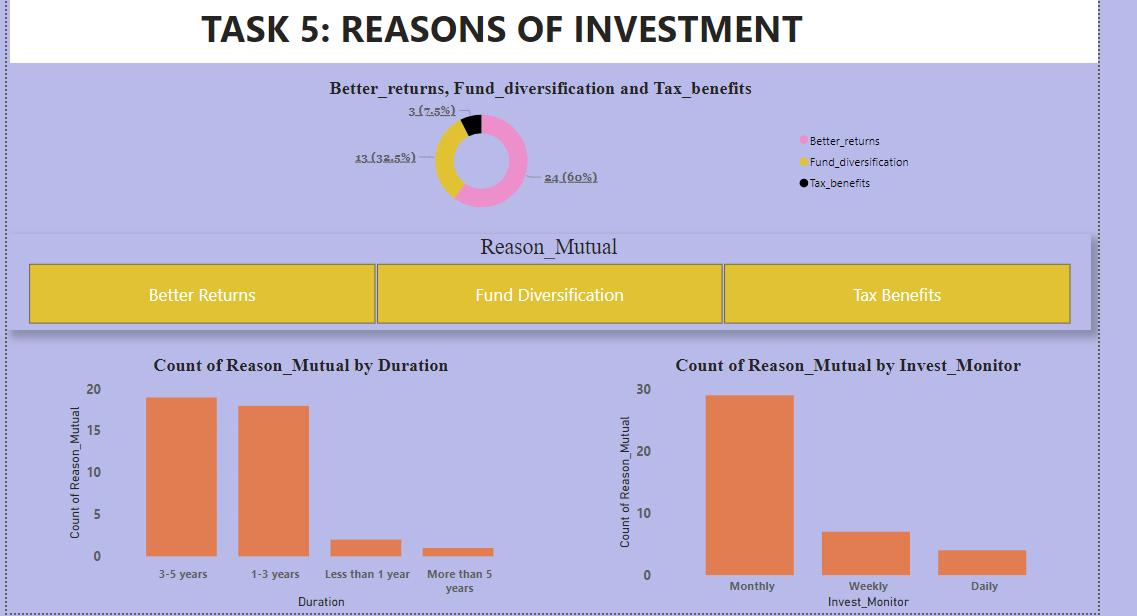

This screenshot's page, from the dashboard's own definition file:
{"tool":"powerbi","page":{"name":"Task 5","canvas":[1280,720],"ordinal":4},"visuals":[{"type":"textbox","box":[4.1,0,1276.2,74.5],"z":0},{"type":"columnChart","fields":{"Category":["Data_set 2.Duration"],"Y":["CountNonNull(Data_set 2.Reason_Mutual)"]},"box":[66.4,417.3,555.5,302.1],"z":1000},{"type":"columnChart","fields":{"Y":["CountNonNull(Data_set 2.Reason_Mutual)"],"Category":["Data_set 2.Invest_Monitor"]},"box":[711.3,417.3,548.7,302.1],"z":2000},{"type":"slicer","title":"Reason_Mutual","fields":{"Values":["Data_set 2.Reason_Mutual"]},"box":[0,275,1270.8,112.4],"z":3000},{"type":"donutChart","fields":{"Y":["Data_set 2.Better_returns","Data_set 2.Fund_diversification","Data_set 2.Tax_benefits"]},"box":[178.8,92.1,892.8,170.7],"z":4000}]}

Visuals, with their boxes on the page's 1280x720 design canvas (x1, y1, x2, y2). These are canvas units, not pixel positions in the 1137x616 screenshot, which may show the page scaled, cropped or inside an application window:
textbox: x1=4, y1=0, x2=1280, y2=74
columnChart - Data_set 2.Duration x CountNonNull(Data_set 2.Reason_Mutual): x1=66, y1=417, x2=622, y2=719
columnChart - CountNonNull(Data_set 2.Reason_Mutual) x Data_set 2.Invest_Monitor: x1=711, y1=417, x2=1260, y2=719
"Reason_Mutual" slicer: x1=0, y1=275, x2=1271, y2=387
donutChart - Data_set 2.Better_returns x Data_set 2.Fund_diversification: x1=179, y1=92, x2=1072, y2=263
